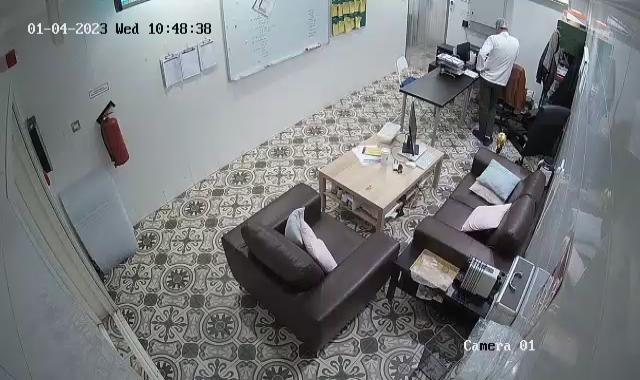hairnet: (494, 17, 513, 33)
